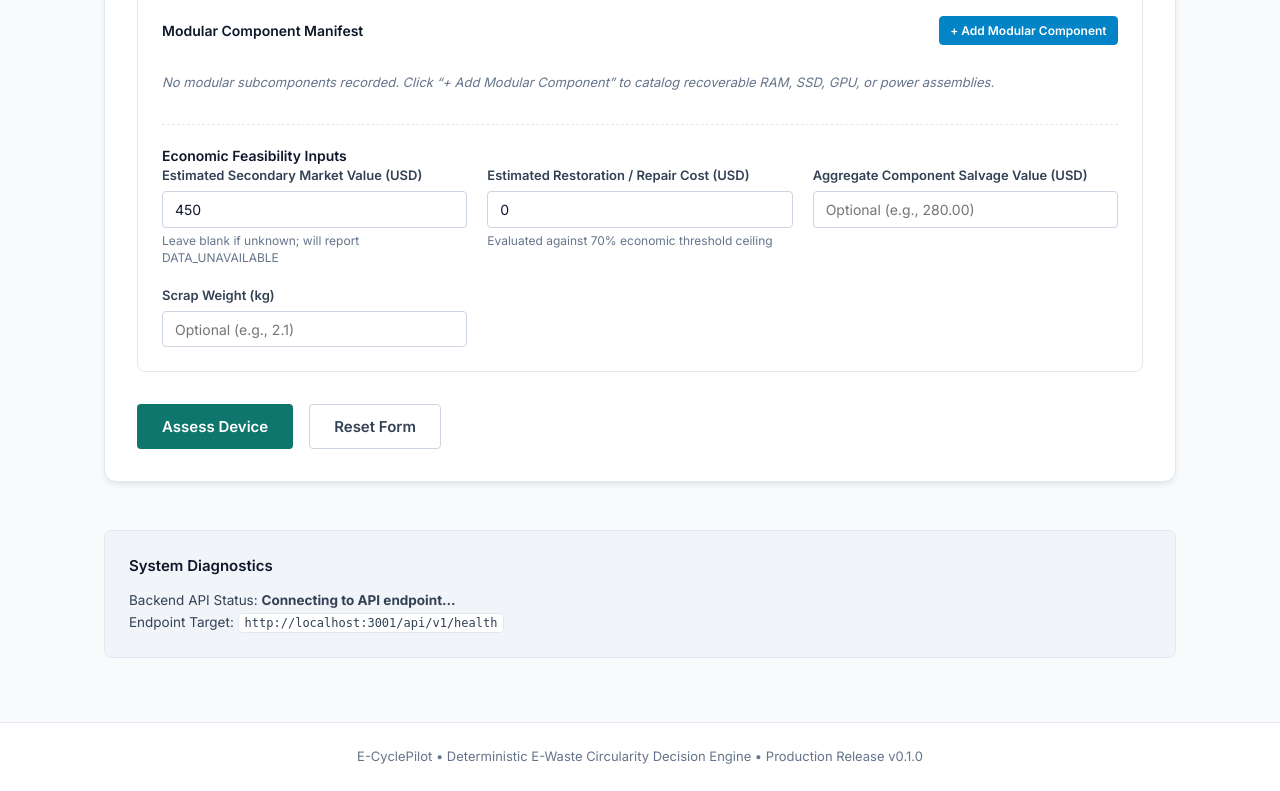
E-CyclePilot Complete Frontend Application Suite › handles network connection failure gracefully with actionable guidance
(page scrolled)
Click the button with test id "assess-submit-btn" at (215,427), box [137,404,293,449]
(page scrolled)
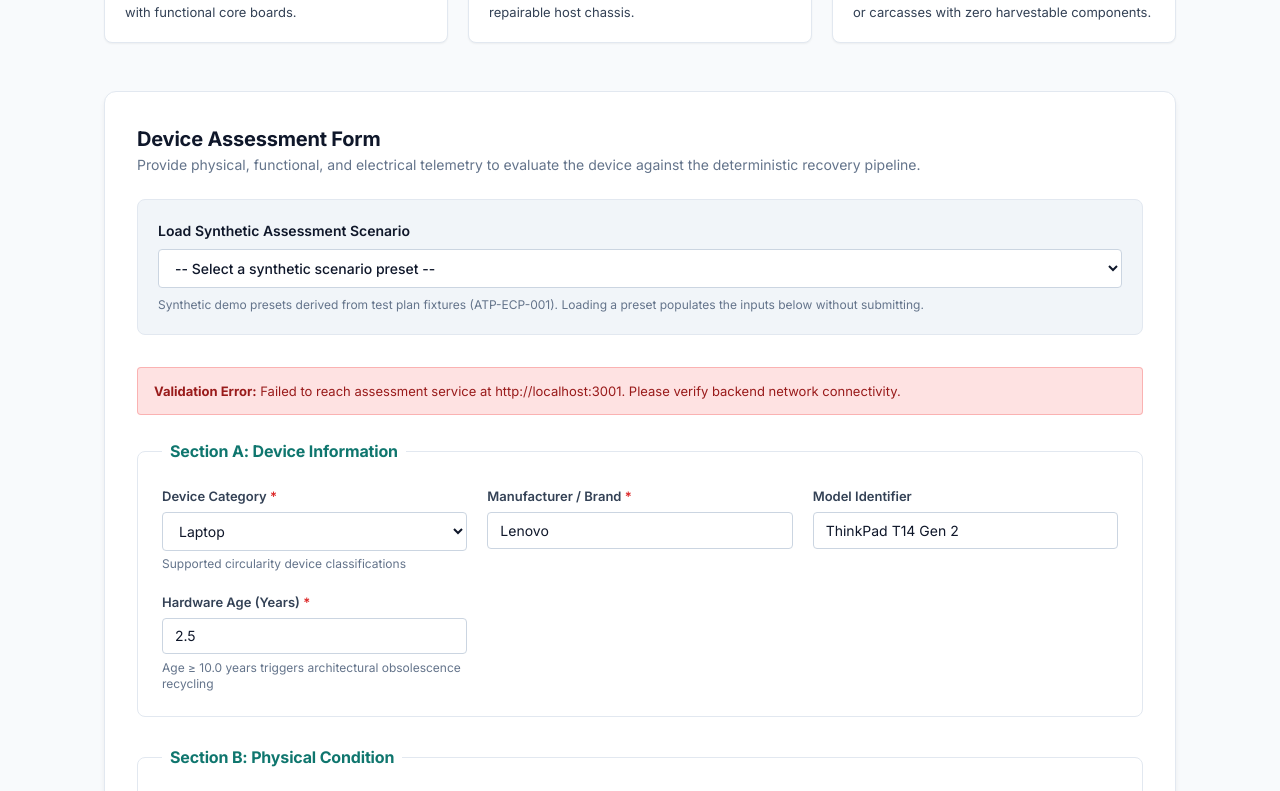
Expected: the message shows "Failed to reach assessment service", [260,383,901,399]
